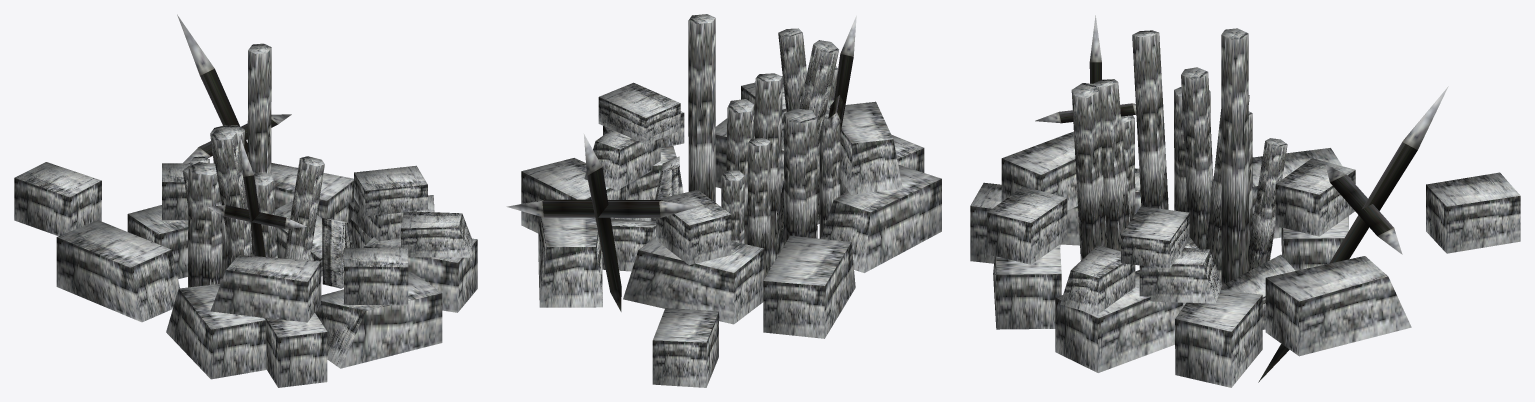
File: S_Build_Snowland181.FBX
The picture shows the model from 3 angles, left to right: view 1: azimuth 30°, elevation 25°; view 2: azimuth 150°, elevation 25°; view 3: azimuth 270°, elevation 25°; orthographic projection. The views are drawn at different scales.
Visible parts, largest first — view 1: S_Build_Snowland181; view 2: S_Build_Snowland181; view 3: S_Build_Snowland181.
Part boxes in pixels (left/top/right/bottom): S_Build_Snowland181: left=14, top=14, right=477, bottom=387; S_Build_Snowland181: left=506, top=14, right=941, bottom=387; S_Build_Snowland181: left=970, top=15, right=1520, bottom=387.
Size of the model in its own units: 312 by 408 by 257.
